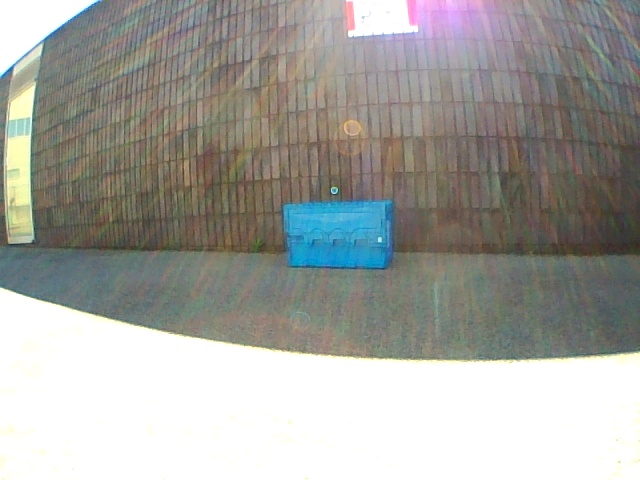blue_box: (283, 201, 392, 269)
tag: (386, 220, 388, 246)
